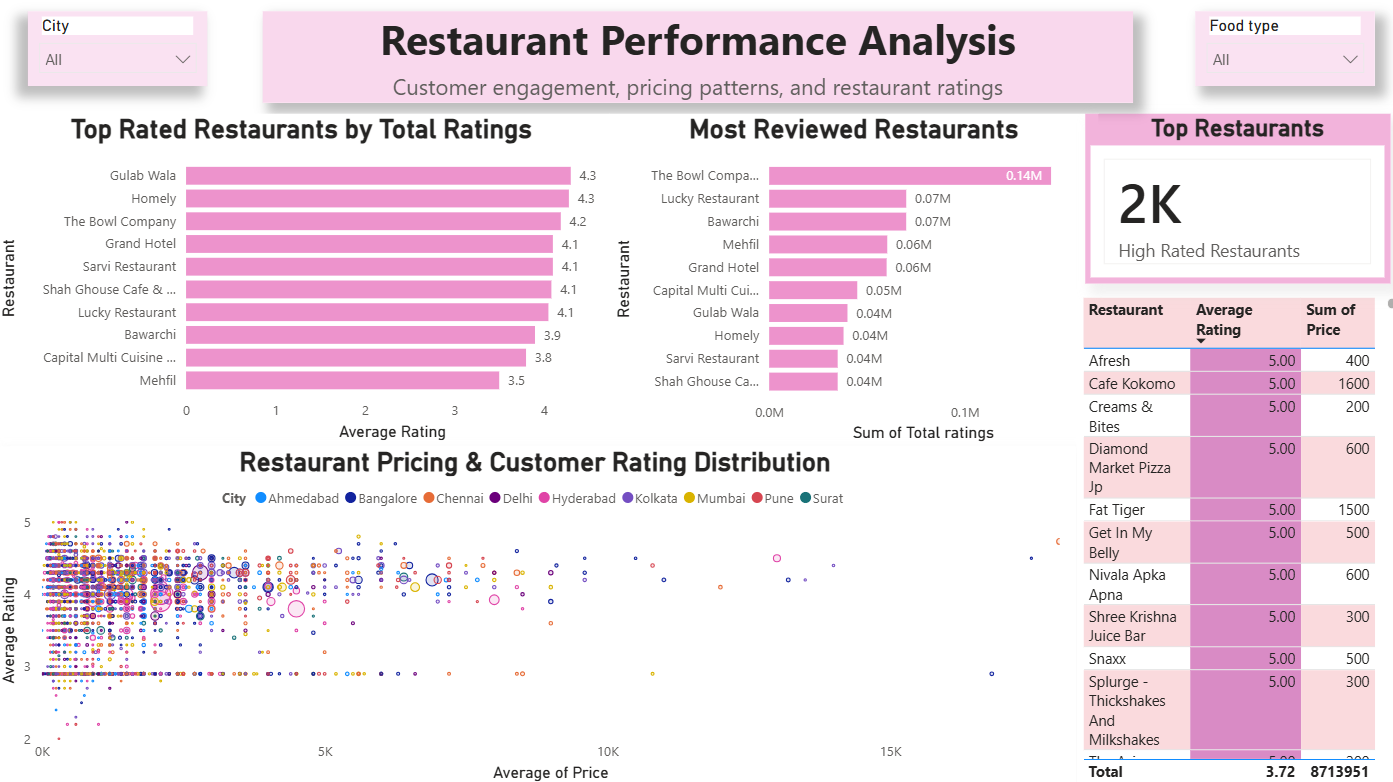

Layout of this report page (visuals, bound fields, positions):
{"tool":"powerbi","page":{"name":"Restaurant Performance","canvas":[1280,720],"ordinal":1},"visuals":[{"type":"textbox","title":"Restaurant Performance Analysis","box":[244.6,14.7,791.2,83.4],"z":0},{"type":"slicer","fields":{"Values":["Swiggy_Data.City"]},"box":[30.4,14.7,163.4,67.6],"z":1000},{"type":"slicer","fields":{"Values":["Swiggy_Data.Food type"]},"box":[1092.2,14.7,163.4,67.6],"z":2000},{"type":"clusteredBarChart","title":"Top Rated Restaurants by Total Ratings","fields":{"Category":["Swiggy_Data.Restaurant"],"Y":["Swiggy_Data.Average Rating"]},"box":[0,108.2,559.1,302.1],"z":3000},{"type":"clusteredBarChart","title":"Most Reviewed Restaurants","fields":{"Category":["Swiggy_Data.Restaurant"],"Y":["Sum(Swiggy_Data.Total ratings)"]},"box":[558.8,107.6,445.1,303.3],"z":4000},{"type":"scatterChart","title":"Restaurant Pricing & Customer Rating Distribution","fields":{"X":["Sum(Swiggy_Data.Price)"],"Y":["Swiggy_Data.Average Rating"],"Size":["Sum(Swiggy_Data.Total ratings)"],"Series":["Swiggy_Data.City"],"Category":["Swiggy_Data.Restaurant"]},"box":[0,410.3,984,310],"z":5000},{"type":"tableEx","fields":{"Values":["Swiggy_Data.Restaurant","Swiggy_Data.Average Rating","Sum(Swiggy_Data.Price)"]},"box":[984,270.5,296.4,449.7],"z":6000},{"type":"cardVisual","title":"Top Restaurants","fields":{"Data":["Swiggy_Data.High Rated Restaurants"]},"box":[991.9,108.2,277.3,154.4],"z":7000}]}

Visuals, with their boxes in screenshot pixels (x1, y1, x2, y2), scaled from the page's 1280x720 canvas onto the 1393x782 screenshot:
"Restaurant Performance Analysis" textbox: <box>266,16,1127,107</box>
slicer - Swiggy_Data.City: <box>33,16,211,89</box>
slicer - Swiggy_Data.Food type: <box>1189,16,1366,89</box>
"Top Rated Restaurants by Total Ratings" clusteredBarChart: <box>0,118,608,446</box>
"Most Reviewed Restaurants" clusteredBarChart: <box>608,117,1093,446</box>
"Restaurant Pricing & Customer Rating Distribution" scatterChart: <box>0,446,1071,781</box>
tableEx - Swiggy_Data.Restaurant x Swiggy_Data.Average Rating: <box>1071,294,1392,781</box>
"Top Restaurants" cardVisual: <box>1079,118,1381,285</box>
